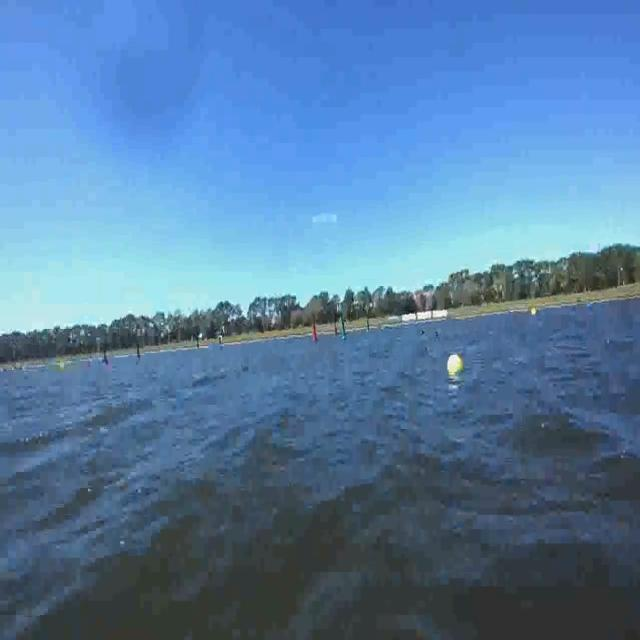green-column-buoy: (341, 313, 349, 343), (100, 343, 108, 366), (136, 340, 143, 360)
red-column-buoy: (312, 322, 319, 342)
yellow-buoy: (446, 353, 462, 374), (533, 304, 541, 316)
